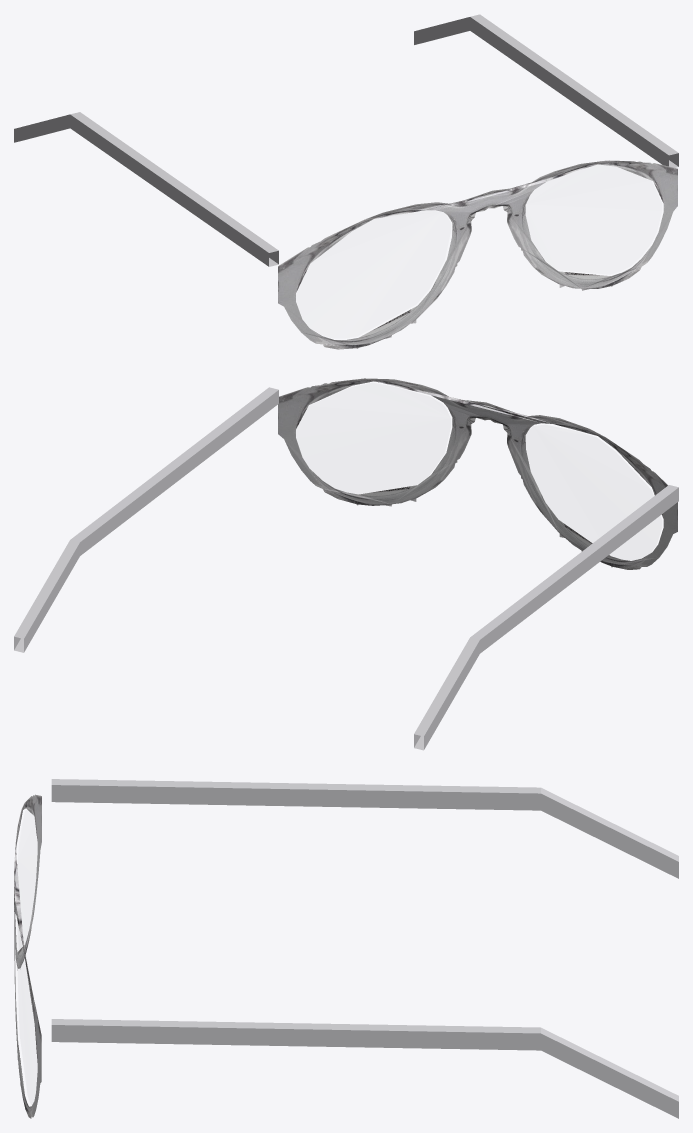
Rendered from gothamstyle-223_crystal.glb.
3 renders of one model, top to bottom at view 1: azimuth 30°, elevation 25°; view 2: azimuth 150°, elevation 25°; view 3: azimuth 270°, elevation 25°, orthographic. The views are drawn at different scales.
Visible parts, largest first — view 1: frame_front, temple_viewer_left, temple_viewer_right; view 2: frame_front, temple_viewer_left, temple_viewer_right; view 3: temple_viewer_left, temple_viewer_right, frame_front.
Boxes of the visible parts, box(x1,y1,x2,y2) form: frame_front: box(278, 160, 677, 349); temple_viewer_left: box(14, 112, 278, 266); temple_viewer_right: box(414, 14, 678, 167); frame_front: box(278, 378, 677, 569); temple_viewer_left: box(414, 485, 678, 750); temple_viewer_right: box(14, 387, 278, 652); temple_viewer_left: box(51, 779, 678, 878); temple_viewer_right: box(51, 1019, 678, 1118); frame_front: box(14, 794, 41, 1118).
Size of the model in its own units: 0.1234 by 0.0384 by 0.141.
3 materials, 2 textured.
